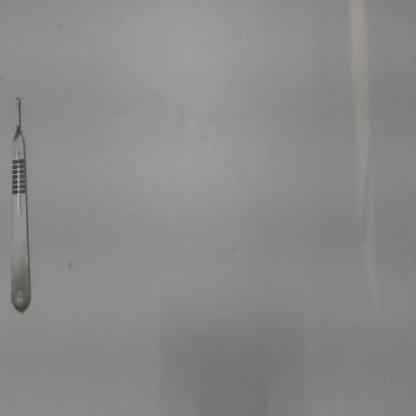No.3 BP Handle: (7, 83, 35, 319)
